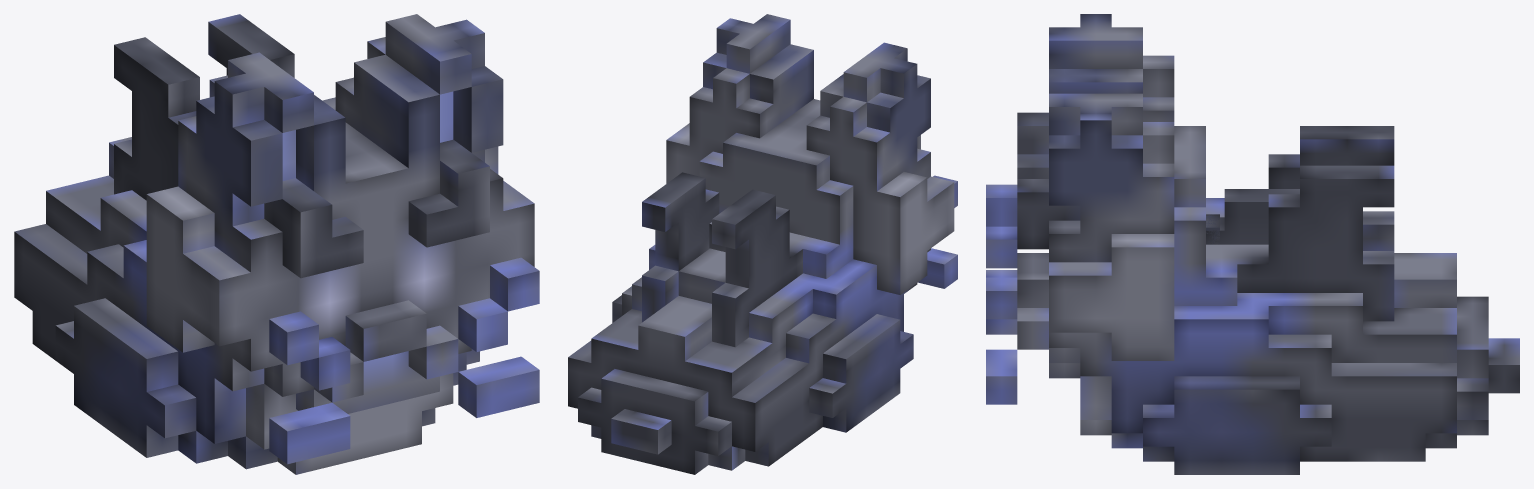
File: skin_21.fbx
3 renders of one model, left to right at view 1: azimuth 30°, elevation 25°; view 2: azimuth 150°, elevation 25°; view 3: azimuth 270°, elevation 25°, orthographic. The views are drawn at different scales.
Parts seen in each view (by area): view 1: skin_21-5; view 2: skin_21-5; view 3: skin_21-5, skin_21-0.
Boxes of the visible parts, x1,y1,x2,y2 form: skin_21-5: (14, 14, 539, 474); skin_21-5: (568, 14, 957, 474); skin_21-5: (986, 14, 1519, 474); skin_21-0: (1206, 189, 1299, 244).
Bounding box in the file's own units: 100 × 120 × 170.
